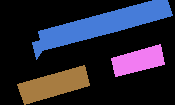parkingspot: (32, 0, 172, 59), (17, 65, 89, 104), (111, 44, 164, 76)
